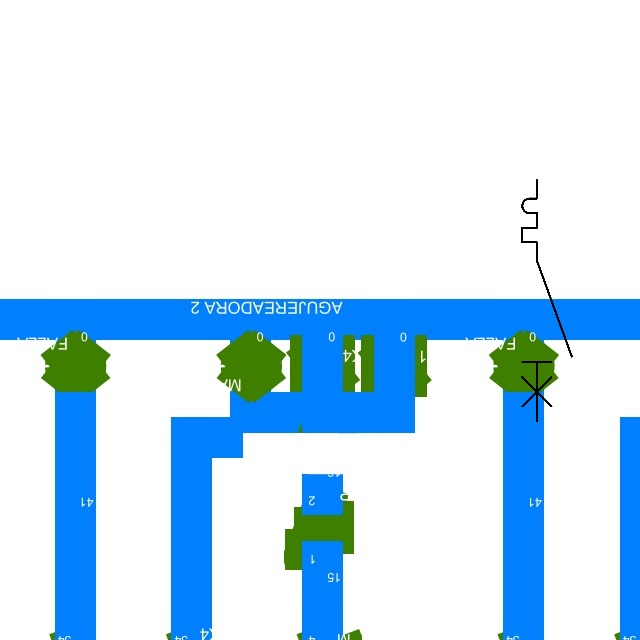interruptor_termomagnetico: (516, 174, 578, 427)
